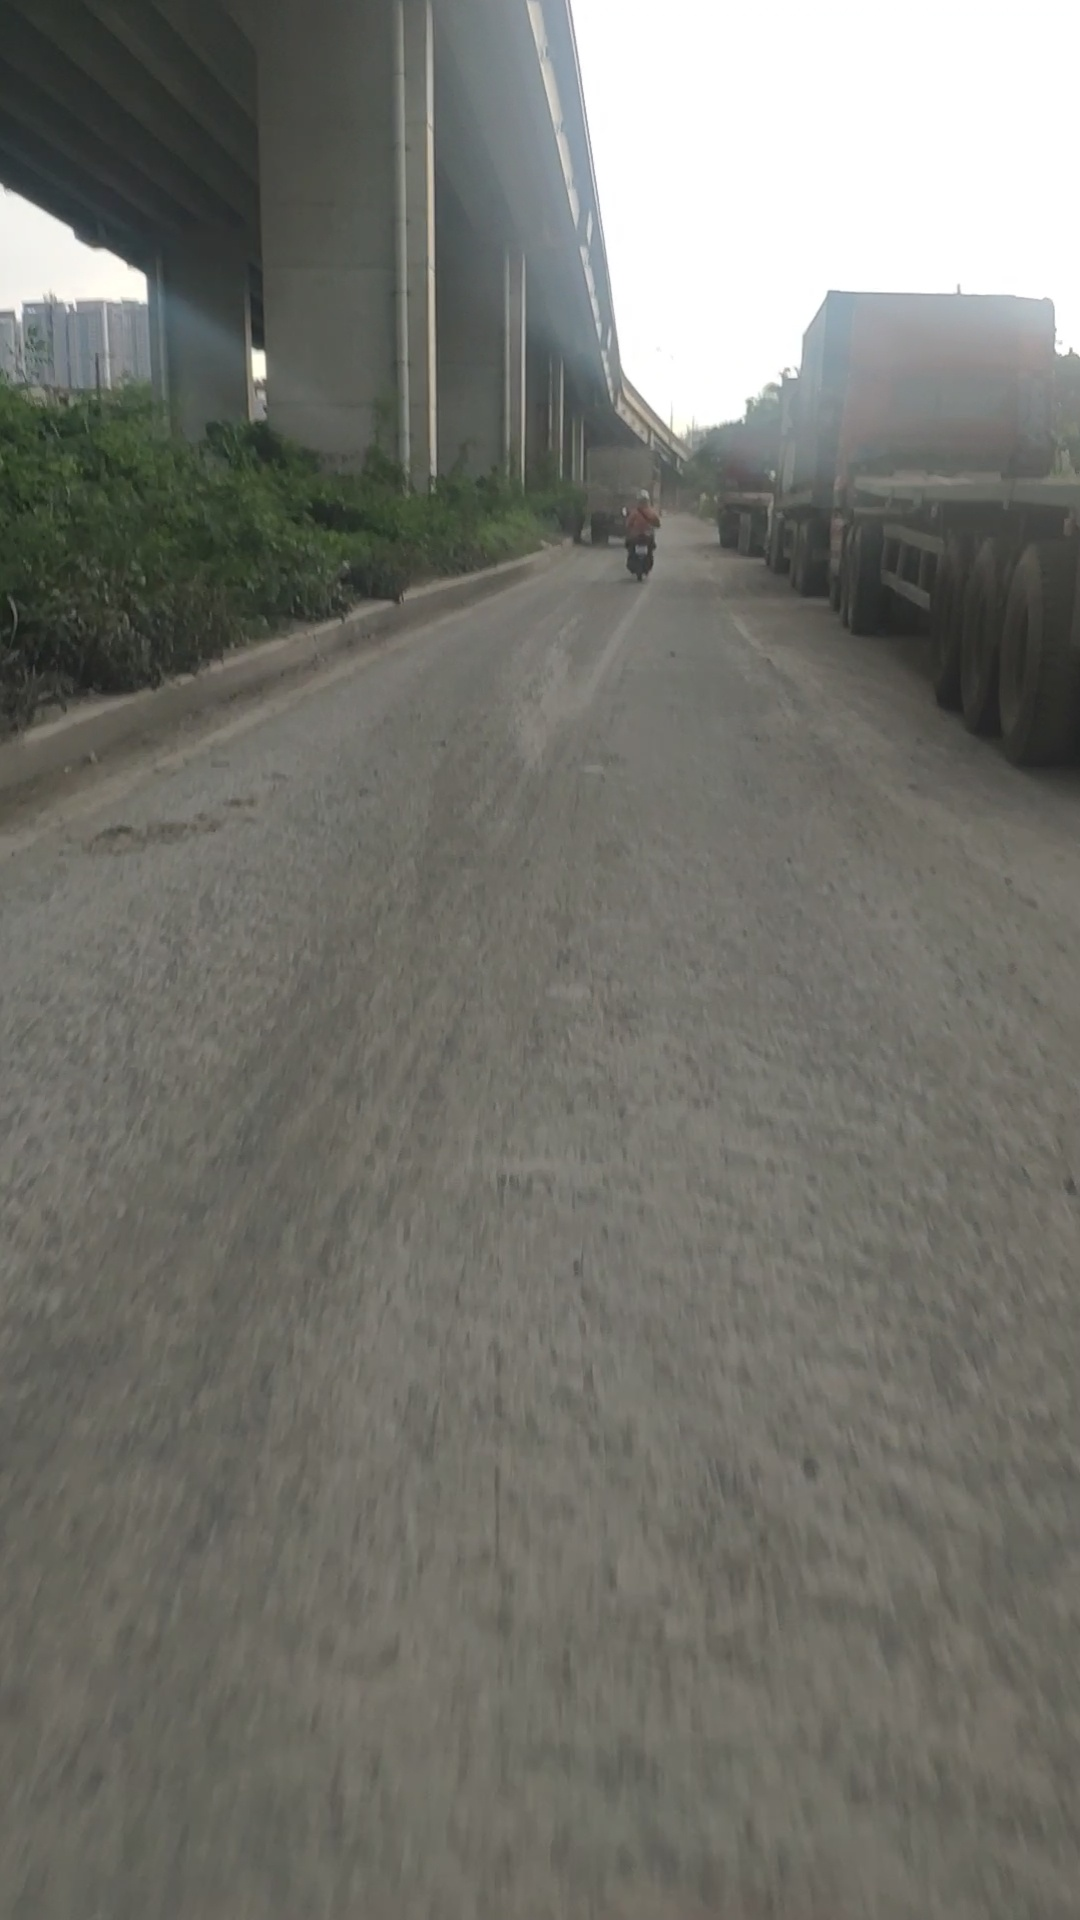hole: (75, 811, 231, 847)
